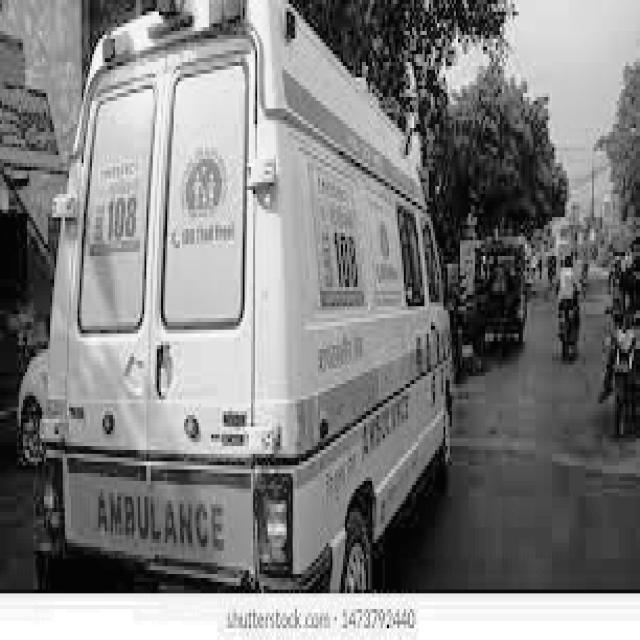Ambulance: (38, 6, 460, 568)
